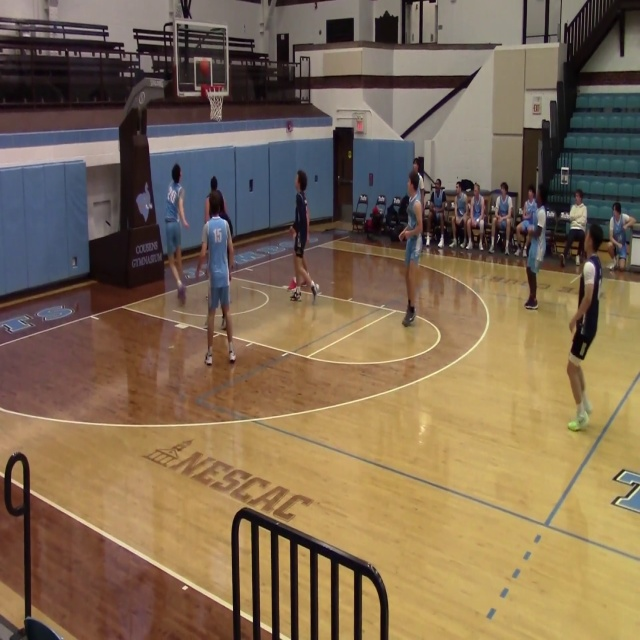Basketball: (199, 59, 211, 76), (399, 232, 407, 243)
